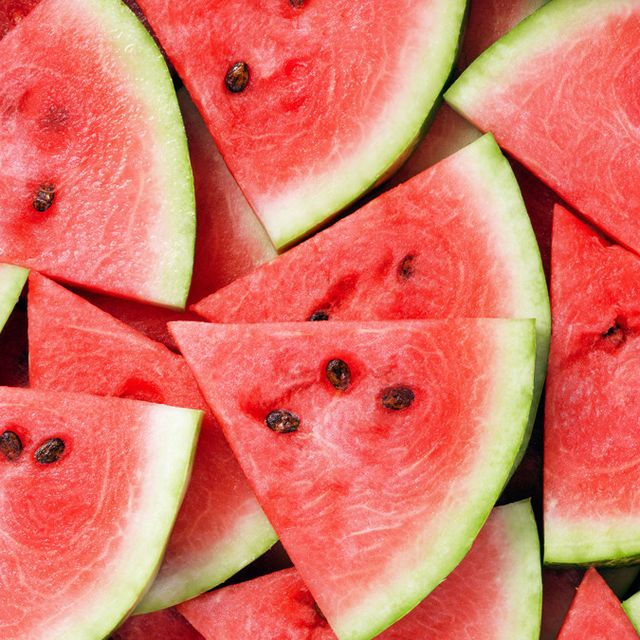Semangka: (208, 291, 537, 603), (1, 5, 198, 288), (5, 383, 204, 640)
